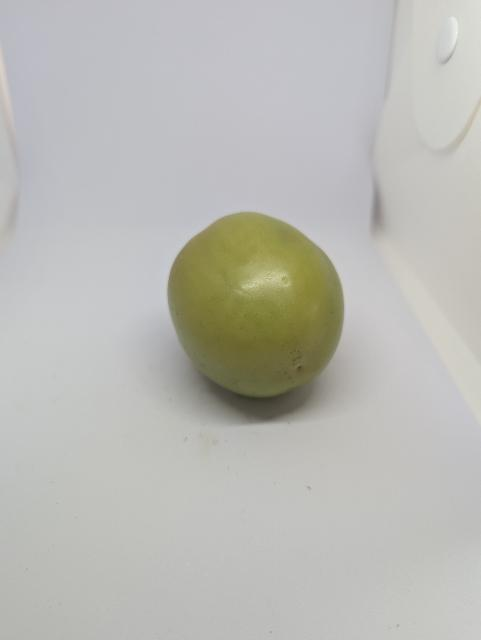green: (157, 200, 359, 418)
